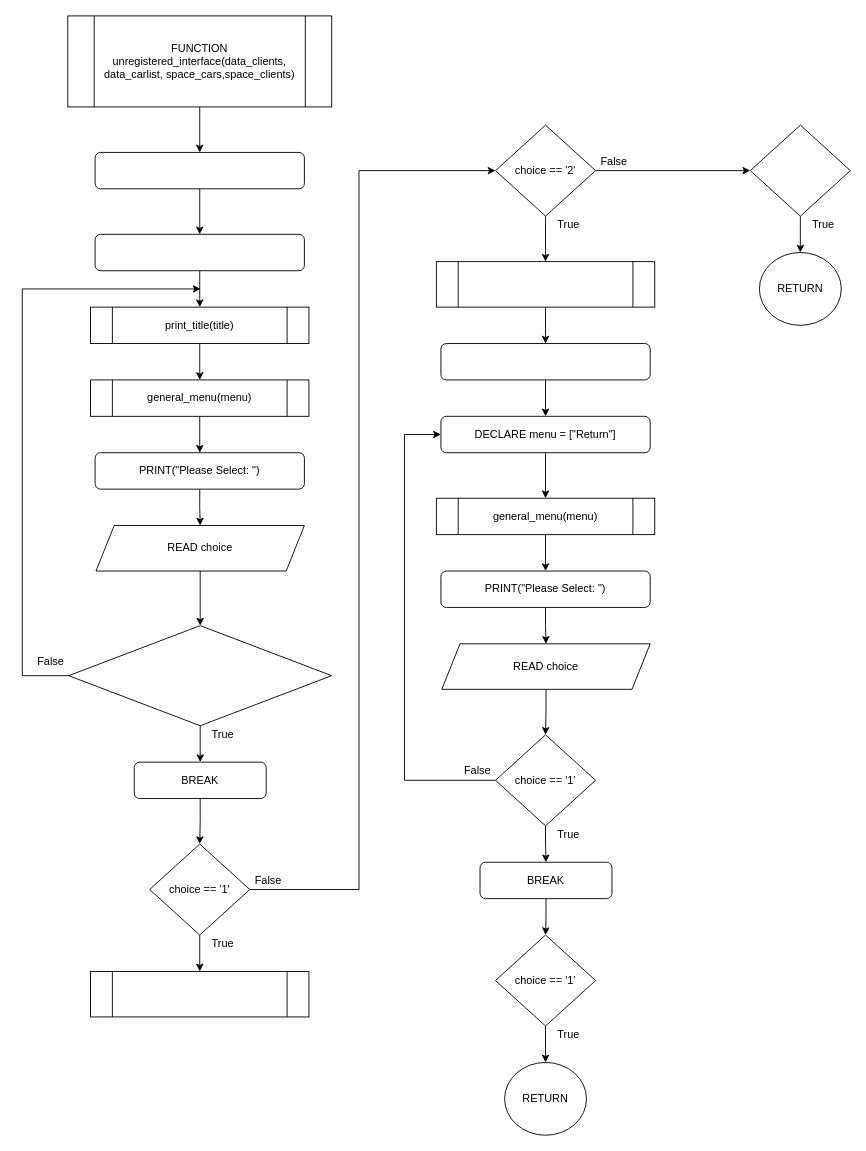
Some shapes in this 866 by 1151 pixel diagram are drawn without their labels. Here are the shapes that lost their labels. From the top down, the centre of each, then its label:
[199,170]: title = "Guest, Welcome to Super Car Rental System"
[799,170]: choice == '3'
[199,252]: DECLARE menu = ["Register", "View Available Cars", "Return"]
[545,284]: print_table(data_carlist, 6, space_cars)
[545,361]: PRINT("")
[200,675]: choice == '1' OR choice == '2' OR choice == '3'
[199,994]: register_interface(data_clients, space_clients)
